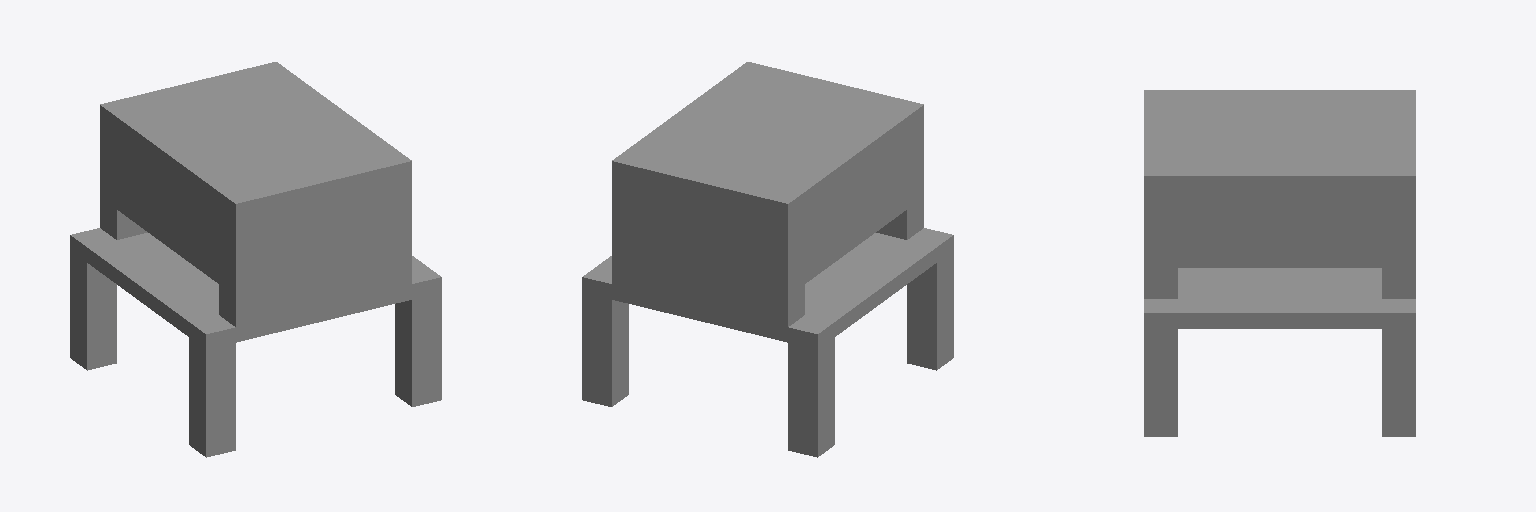
Rendered from metalcutter.obj.
The picture shows the model from 3 angles: view 1: azimuth 30°, elevation 25°; view 2: azimuth 150°, elevation 25°; view 3: azimuth 270°, elevation 25°; orthographic projection.
Parts seen in each view (by area): view 1: Cube; view 2: Cube; view 3: Cube.
Boxes of the visible parts, box(x1,y1,x2,y2) form: Cube: box(70, 62, 441, 457); Cube: box(582, 62, 953, 457); Cube: box(1144, 90, 1415, 436).
Bounding box in the file's own units: 1 × 1 × 1.